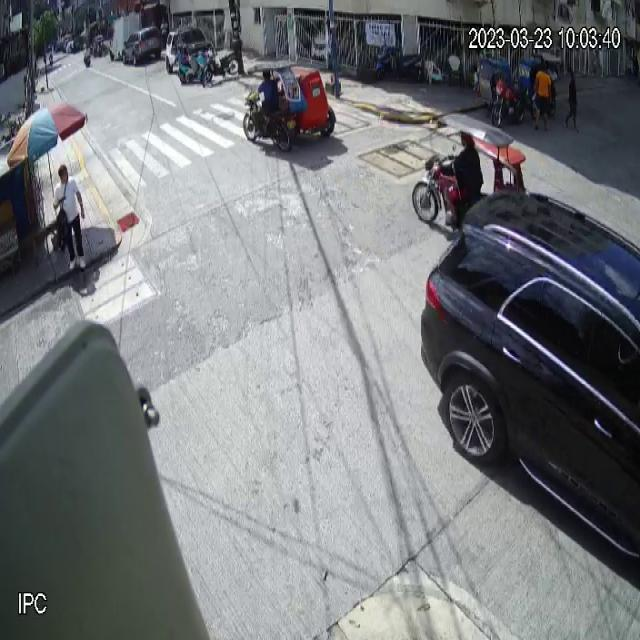Tricycle: (412, 113, 526, 225), (243, 60, 337, 152), (479, 57, 526, 129)
